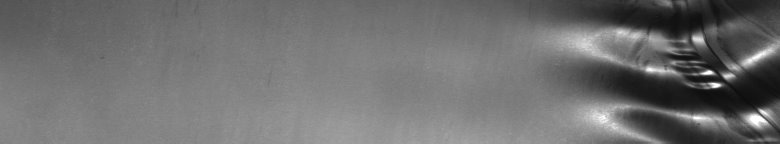ke: (599, 4, 776, 136)
